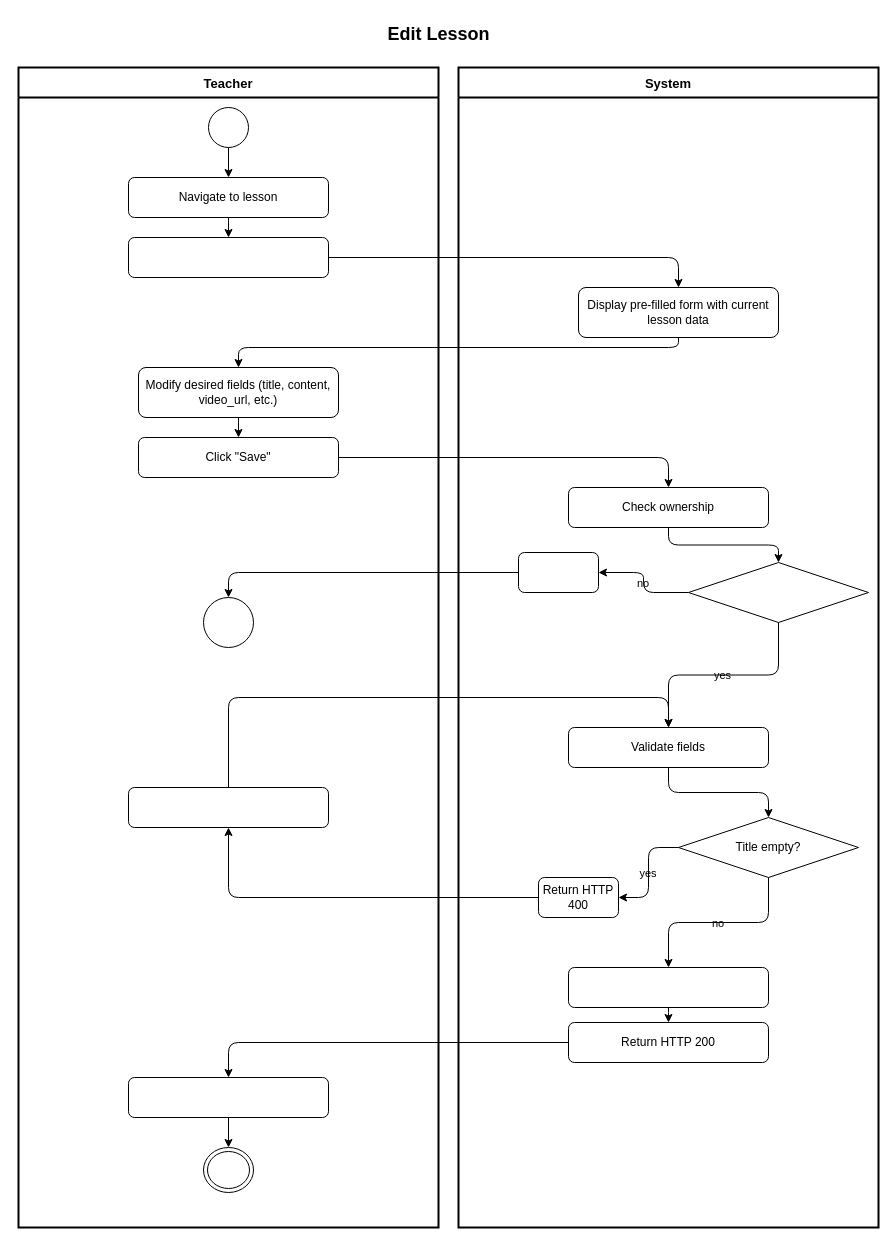
This 896x1245 diagram has some shape labels left out. Here are the shapes that lost their labels. From the top down, the centre of each, then its label:
point (228, 257): Click "Edit"
point (558, 572): Return HTTP 403
point (778, 592): User is owner?
point (228, 807): Correct and resubmit
point (668, 987): Update Lesson record
point (228, 1097): See updated lesson content
